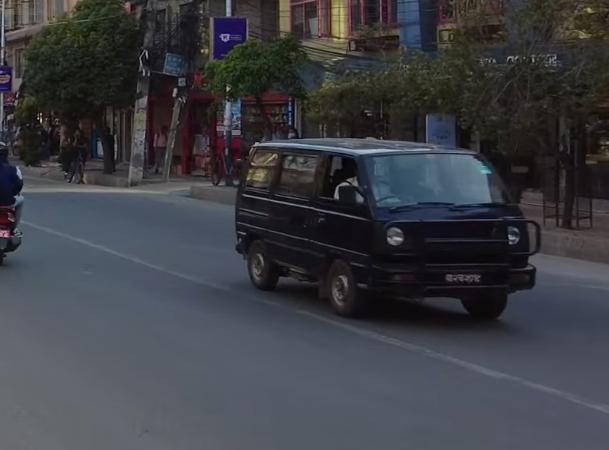van: (227, 131, 545, 330)
